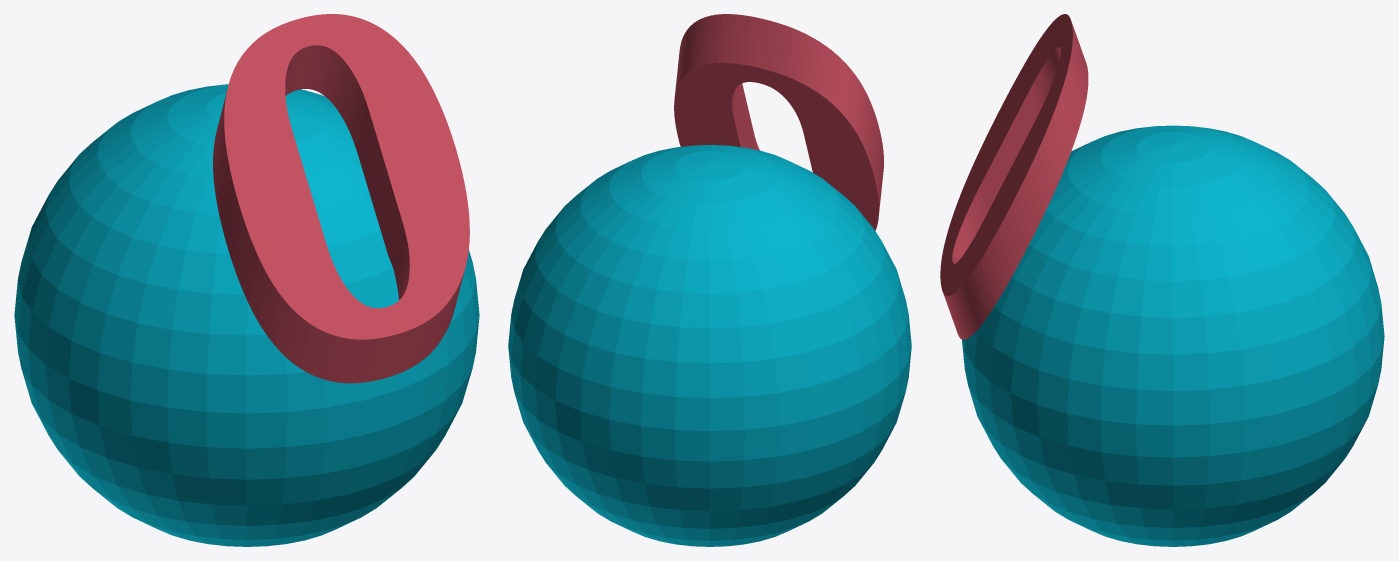
The model's file is number_0.glb.
3 views of the same model, side by side, from view 1: azimuth 30°, elevation 25°; view 2: azimuth 150°, elevation 25°; view 3: azimuth 270°, elevation 25° (orthographic). The views are drawn at different scales.
Parts seen in each view (by area): view 1: Mesh_Mesh_head_geo.001_lambert2SG.001; view 2: Mesh_Mesh_head_geo.001_lambert2SG.001; view 3: Mesh_Mesh_head_geo.001_lambert2SG.001.
Part boxes in pixels (x1,y1,x2,y2): Mesh_Mesh_head_geo.001_lambert2SG.001: [14, 14, 479, 546]; Mesh_Mesh_head_geo.001_lambert2SG.001: [508, 14, 911, 546]; Mesh_Mesh_head_geo.001_lambert2SG.001: [940, 14, 1384, 546].
Size of the model in its own units: 20 by 26.03 by 21.
